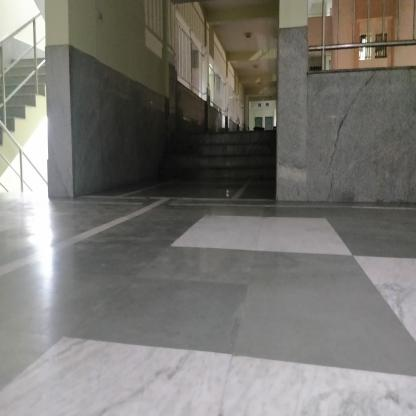stairs: (172, 132, 276, 180)
